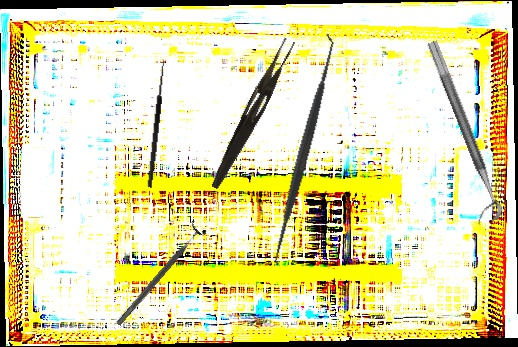Dressing Forceps: (208, 34, 297, 194)
Fixation Ring: (411, 39, 506, 227), (110, 219, 208, 331)
Hook Surgical: (140, 58, 167, 188)
Spatula Surgical: (260, 32, 348, 268)
